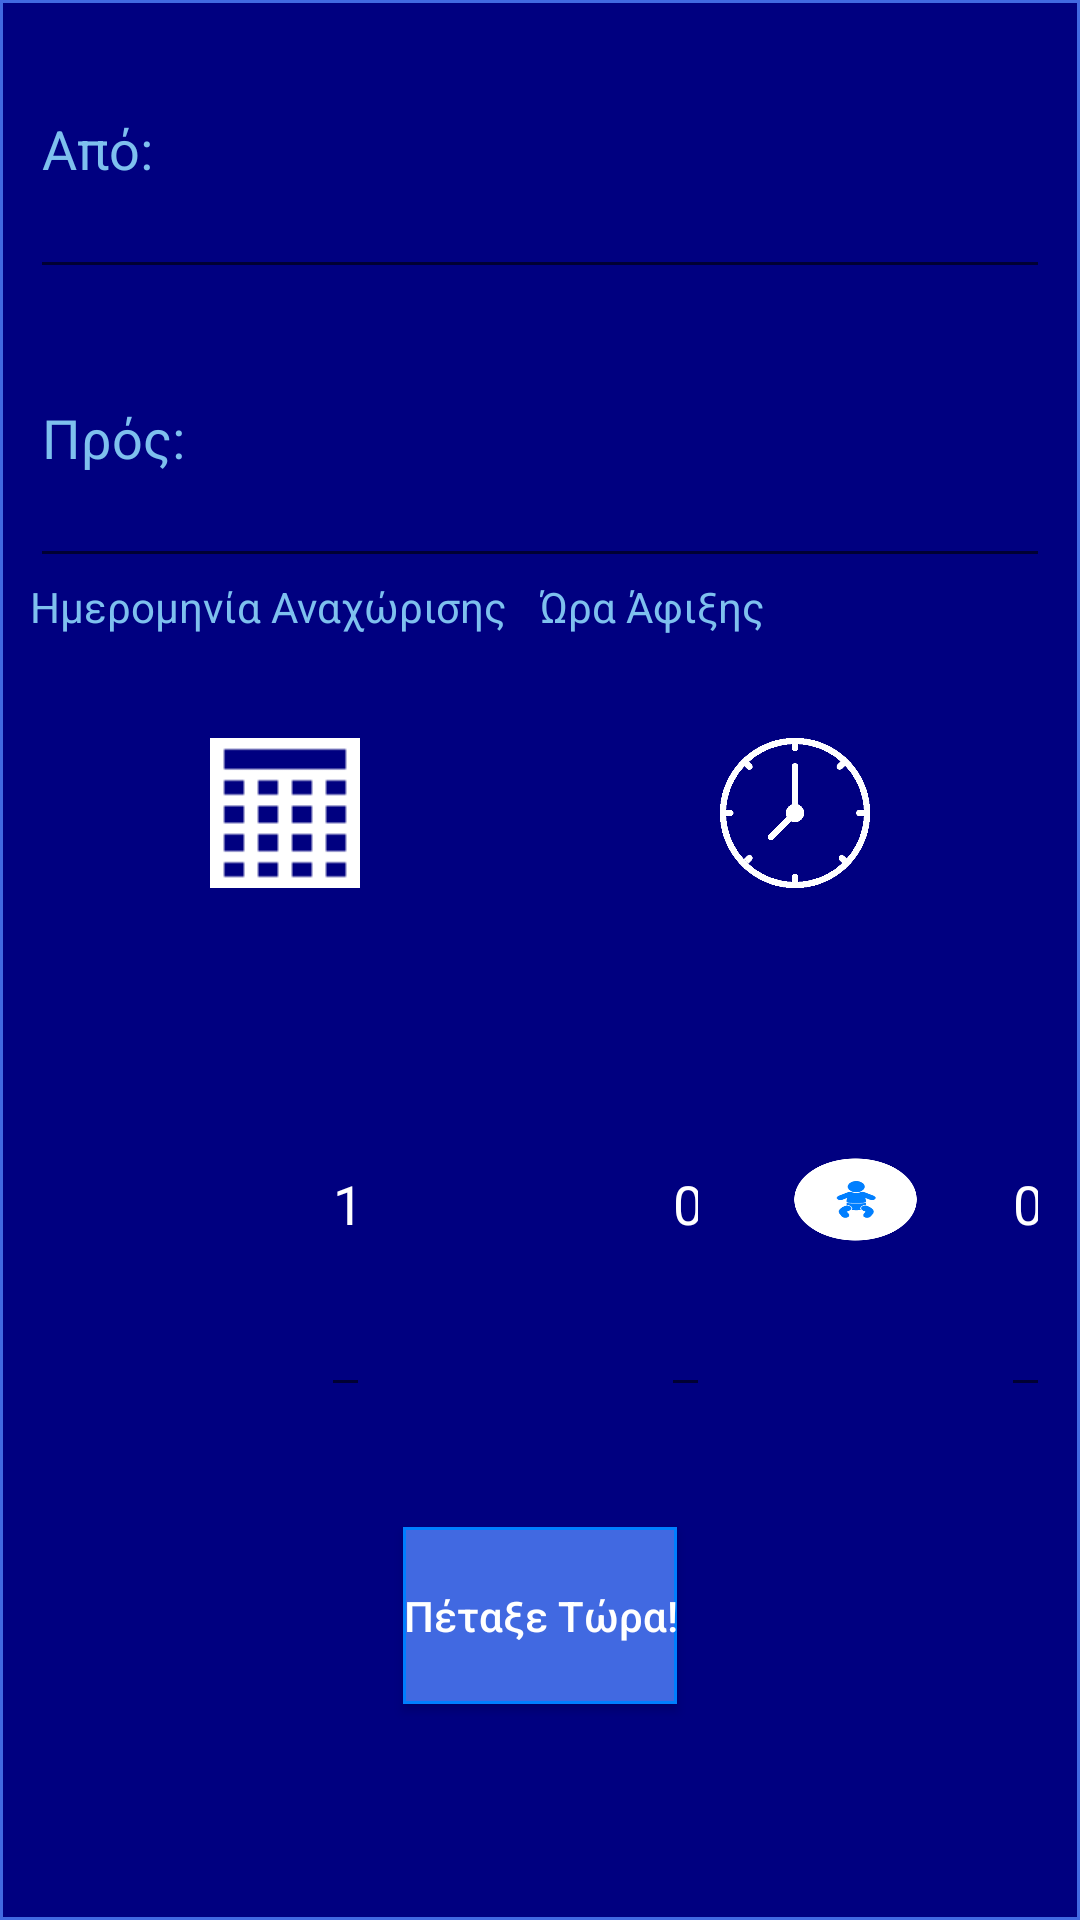

Icon click points for this 1080px×1920px phone screenshot, format point (x, y):
calendar: point (285, 813)
clock: point (795, 813)
infant azure: point (855, 1199)
